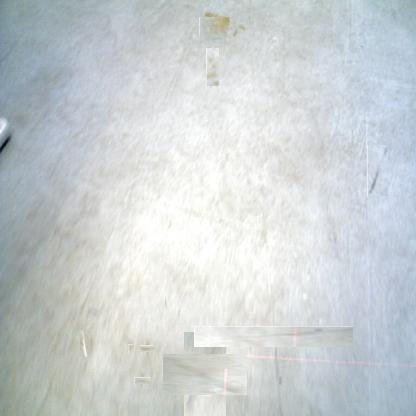liquid: (229, 292, 318, 381), (202, 15, 228, 40), (206, 48, 219, 86), (80, 330, 90, 358), (229, 21, 242, 33)
mark: (174, 342, 236, 406), (367, 146, 388, 198), (136, 374, 148, 387), (142, 344, 153, 354), (128, 344, 134, 353), (166, 297, 170, 309), (278, 375, 282, 387), (358, 44, 364, 50)
